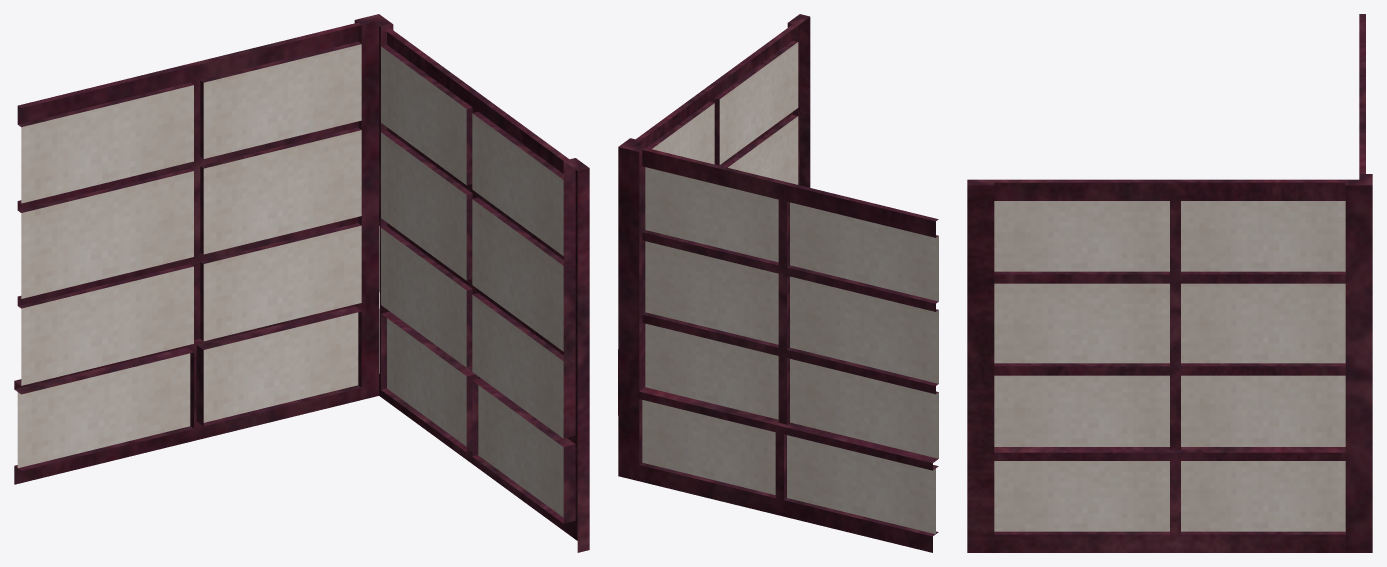
The model's file is NNJ0510042.fbx.
3 views of the same model, side by side, from view 1: azimuth 30°, elevation 25°; view 2: azimuth 150°, elevation 25°; view 3: azimuth 270°, elevation 25° (orthographic). The views are drawn at different scales.
Parts seen in each view (by area): view 1: smNNJ0510042; view 2: smNNJ0510042; view 3: smNNJ0510042.
Boxes of the visible parts, x1,y1,x2,y2 form: smNNJ0510042: (14,14,589,552); smNNJ0510042: (618,14,938,552); smNNJ0510042: (967,14,1372,552).
Bounding box in the file's own units: 277 × 276 × 276.
1 material, 1 textured.
